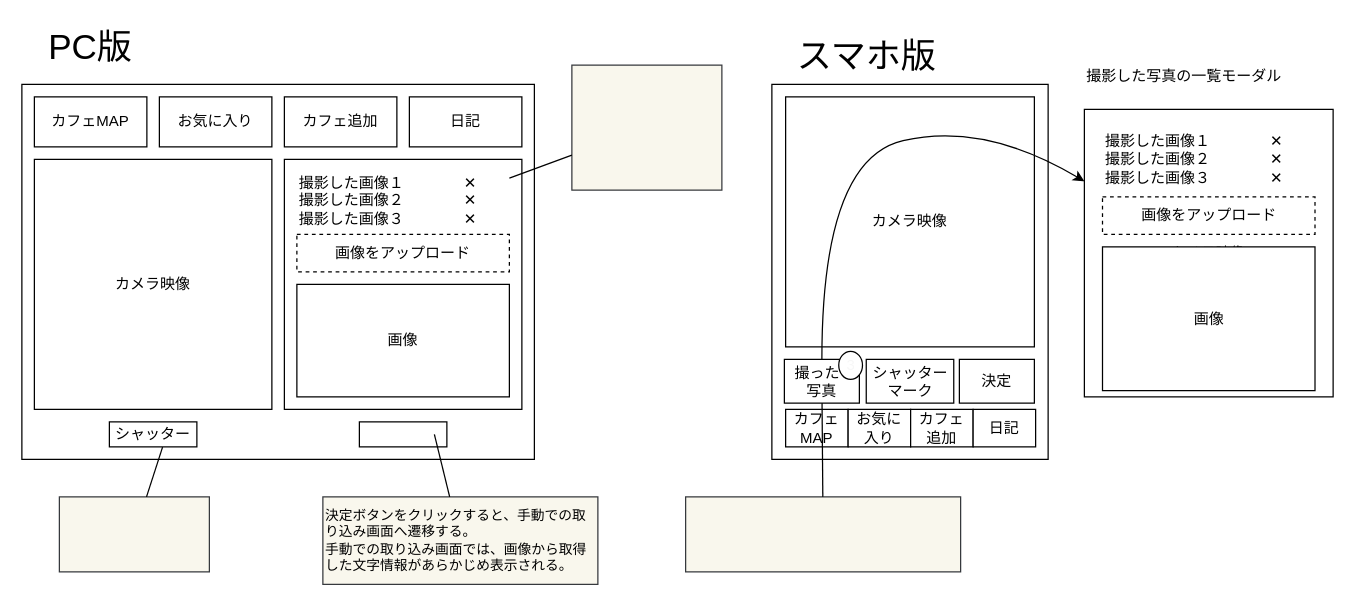
Image size: 1355x606. Some labels were removed from this diagram. The centre of each missing label's shape, as x and y in pixels:
"シャッターマークをクリックすると、右側に撮影した画像として追加される。" belongs at (x=133, y=534).
"撮影した枚数が表示される。 撮った写真をクリックすると、「撮影した写真の一覧」モーダルが表氏される。" belongs at (x=822, y=534).
"文字をクリックすると、下のエリアに画像が表示される。 ✕をクリックすると、撮影した画像情報は削除される。" belongs at (x=646, y=127).
"決定ボタン" belongs at (x=402, y=434).
